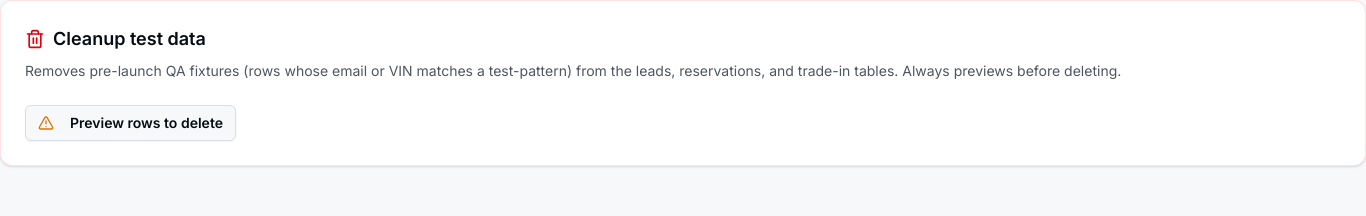
Test: CleanupTestDataCard › renders a structured error from the API
The width and height of the screenshot is (1366, 216).
What coordinates should you click on to do the following:
click the button "Preview rows to delete"
I would click on:
 (130, 123)
Its box is [25,105,236,141].
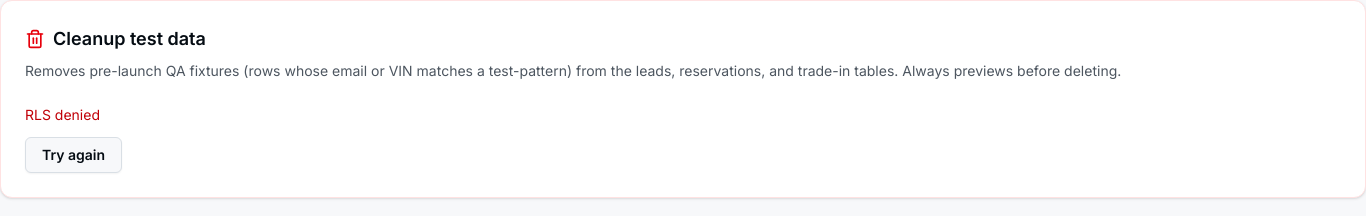
Result: the text "RLS denied" is shown at [25,106,100,123]
Result: the button "Try again" is shown at [25,137,122,173]
